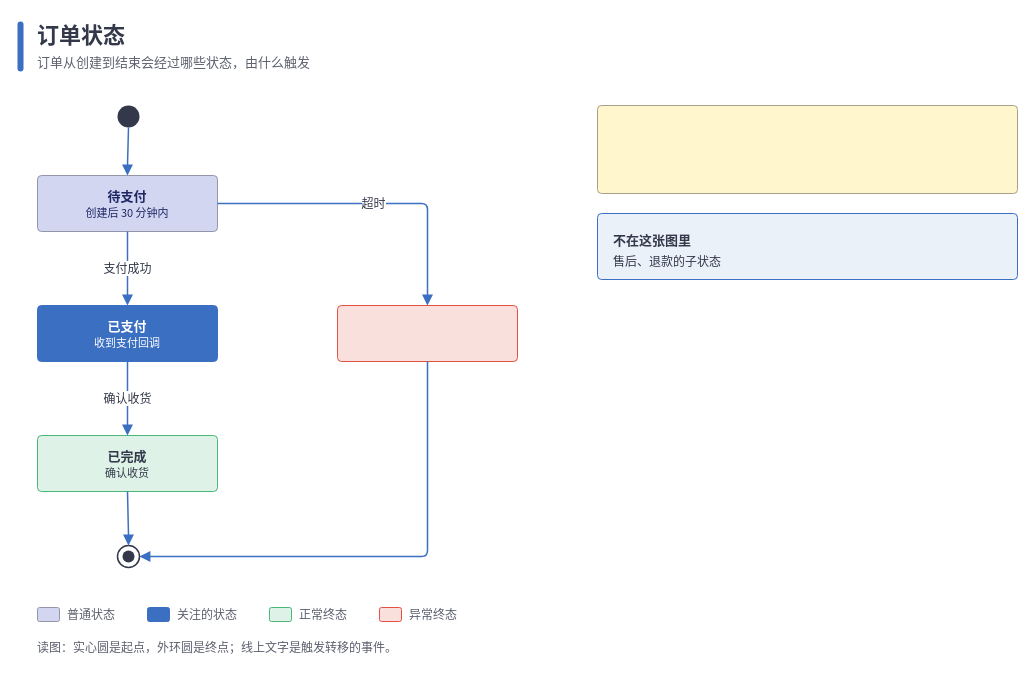
Some shapes in this 1035 by 674 pixel diagram are drawn without their labels. Each missing label, with the box of its shape:
已取消 超时或用户取消: (336, 304, 518, 362)
规则 待支付超过 30 分钟自动取消 已支付的订单只能走售后，不能取消: (596, 104, 1018, 194)
